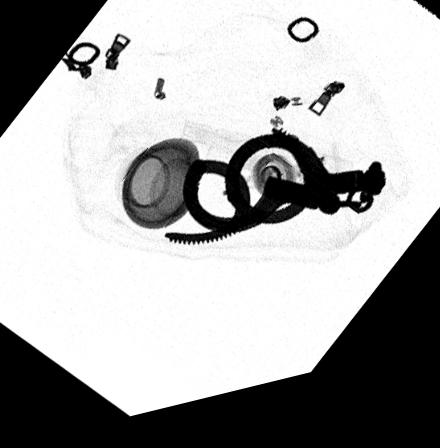HandCuffs: (162, 137, 385, 256)
